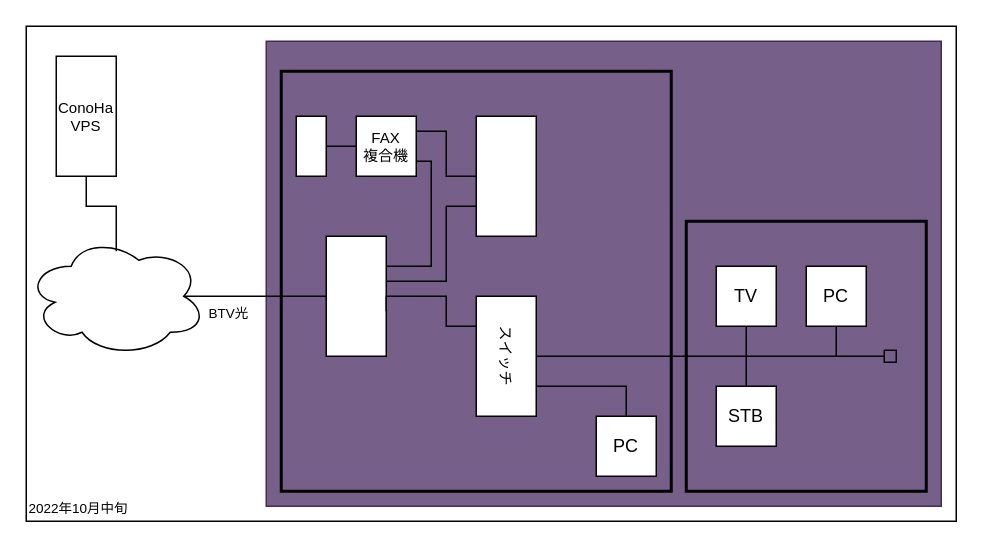
Image size: 983x548. Some labels were removed from this diagram. Here are the shapes that lost their labels. From the top down, the centre of each, then its label:
(x=310, y=145): 電話機
(x=505, y=175): 光電話
(x=115, y=295): Internet
(x=355, y=295): ONU
